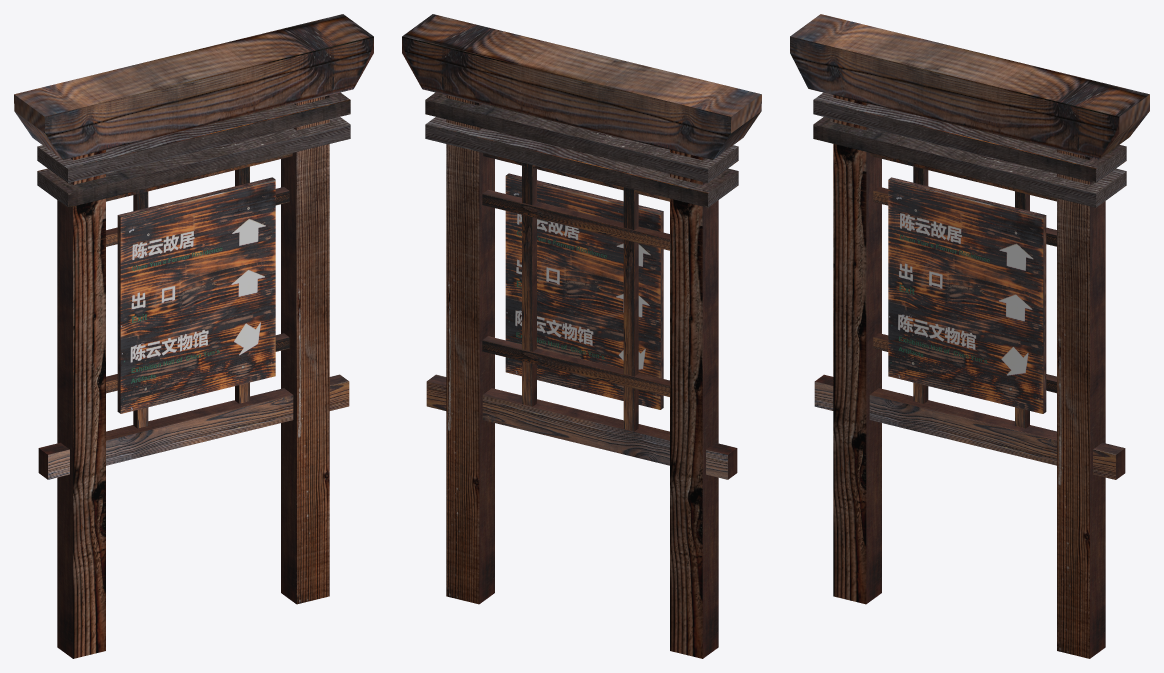
Rendered from Prop_RoadGuide03.FBX.
The picture shows the model from 3 angles, left to right: view 1: azimuth 30°, elevation 25°; view 2: azimuth 150°, elevation 25°; view 3: azimuth 330°, elevation 25°; orthographic projection.
Visible parts, largest first — view 1: Prop_RoadGuide03; view 2: Prop_RoadGuide03; view 3: Prop_RoadGuide03.
Part boxes in pixels (left/top/right/bottom): Prop_RoadGuide03: left=14, top=14, right=373, bottom=658; Prop_RoadGuide03: left=402, top=14, right=761, bottom=658; Prop_RoadGuide03: left=790, top=14, right=1149, bottom=658.
Size of the model in its own units: 115 by 18.66 by 186.
